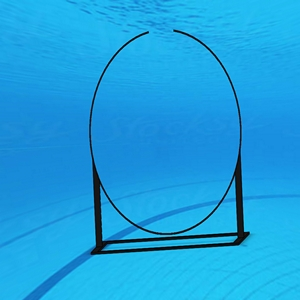circle: (86, 27, 253, 258)
